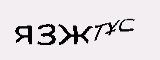Ж: (57, 23, 92, 47)
З: (35, 23, 56, 46)
С: (118, 17, 135, 33)
Т: (91, 20, 107, 42)
Я: (14, 24, 34, 46)
Ұ: (105, 19, 119, 37)
